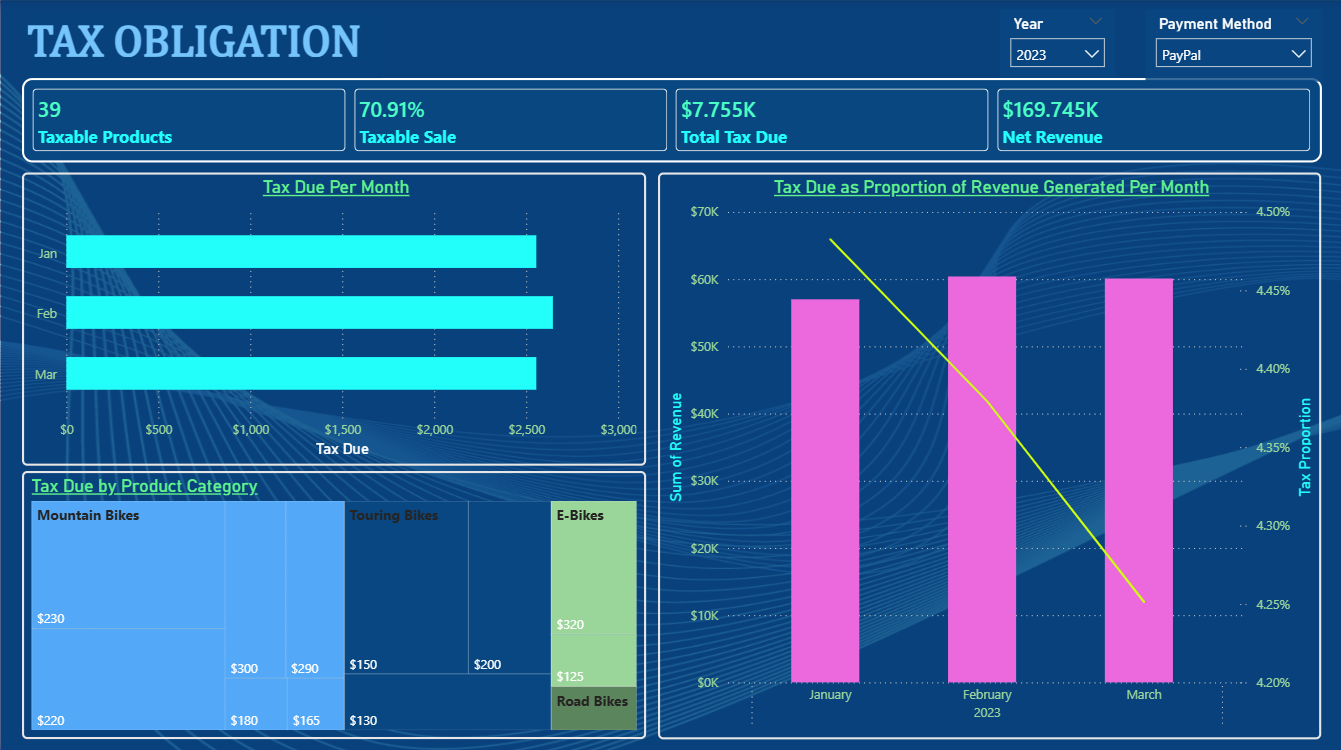

What the dashboard file says about the page in this screenshot:
{"tool":"powerbi","page":{"name":"Tax Obligation","canvas":[1280,720],"ordinal":3},"visuals":[{"type":"slicer","fields":{"Values":["Date.Year"]},"box":[954.4,9.3,110.2,69],"z":0},{"type":"cardVisual","fields":{"Data":["Measure.Taxable Sale","Measure.Taxable Sale Percent","Measure.Total Tax Due","Measure.Net Revenue"]},"box":[19.9,74.3,1241.1,81],"z":1000},{"type":"clusteredBarChart","title":"Tax Due Per Month","fields":{"Category":["Date.Month"],"Y":["Sum(Sales.Tax Due)"]},"box":[19.9,164.6,596,280.1],"z":2000},{"type":"lineClusteredColumnComboChart","title":"Tax Due as Proportion of Revenue Generated Per Month","fields":{"Category":["Date.Date.Variation.Date Hierarchy.Year","Date.Date.Variation.Date Hierarchy.Month"],"Y":["Sum(Sales.Revenue)"],"Y2":["Measure.Tax Proportion"]},"box":[627.8,164.6,633.1,541.6],"z":3000},{"type":"slicer","fields":{"Values":["Sales.Payment Method"]},"box":[1092.4,9.3,168.6,69],"z":4000},{"type":"treemap","title":"Tax Due by Product Category ","fields":{"Details":["Sales.Tax Due"],"Group":["Sales.Product Category "],"Values":["Sum(Sales.Tax Due)"]},"box":[19.9,450,596,256.2],"z":5000},{"type":"textbox","box":[19.9,0,343.8,63.7],"z":6001}]}

Visuals, with their boxes in screenshot pixels (x1, y1, x2, y2), scaled from the page's 1280x720 canvas onto the 1341x750 screenshot:
slicer - Date.Year: detection(1000, 10, 1115, 82)
cardVisual - Measure.Taxable Sale x Measure.Taxable Sale Percent: detection(21, 77, 1321, 162)
"Tax Due Per Month" clusteredBarChart: detection(21, 171, 645, 463)
"Tax Due as Proportion of Revenue Generated Per Month" lineClusteredColumnComboChart: detection(658, 171, 1321, 736)
slicer - Sales.Payment Method: detection(1144, 10, 1321, 82)
"Tax Due by Product Category " treemap: detection(21, 469, 645, 736)
textbox: detection(21, 0, 381, 66)
